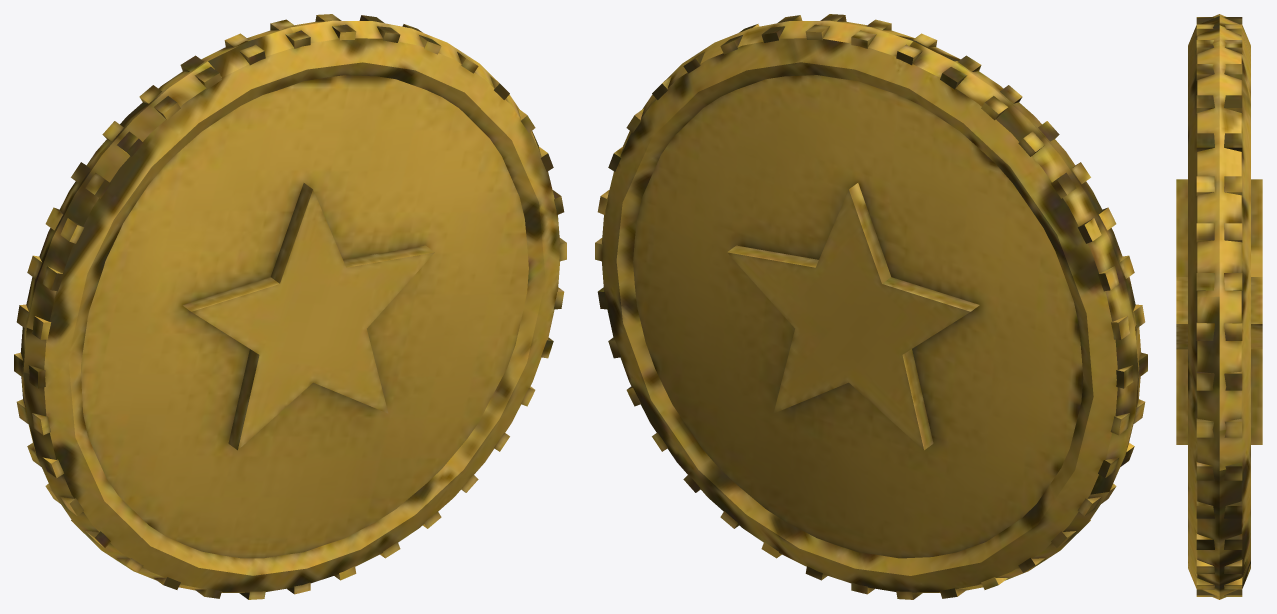
The picture shows the model from 3 angles, left to right: view 1: azimuth 30°, elevation 25°; view 2: azimuth 150°, elevation 25°; view 3: azimuth 270°, elevation 25°; orthographic projection. The views are drawn at different scales.
Parts seen in each view (by area): view 1: Coin_gold; view 2: Coin_gold; view 3: Coin_gold.
Part boxes in pixels (x1,y1,x2,y2): Coin_gold: [14, 14, 566, 599]; Coin_gold: [595, 14, 1147, 599]; Coin_gold: [1176, 14, 1262, 599].
Size of the model in its own units: 1.04 by 1.04 by 0.153.
Materials: 1 (1 with a texture image).
